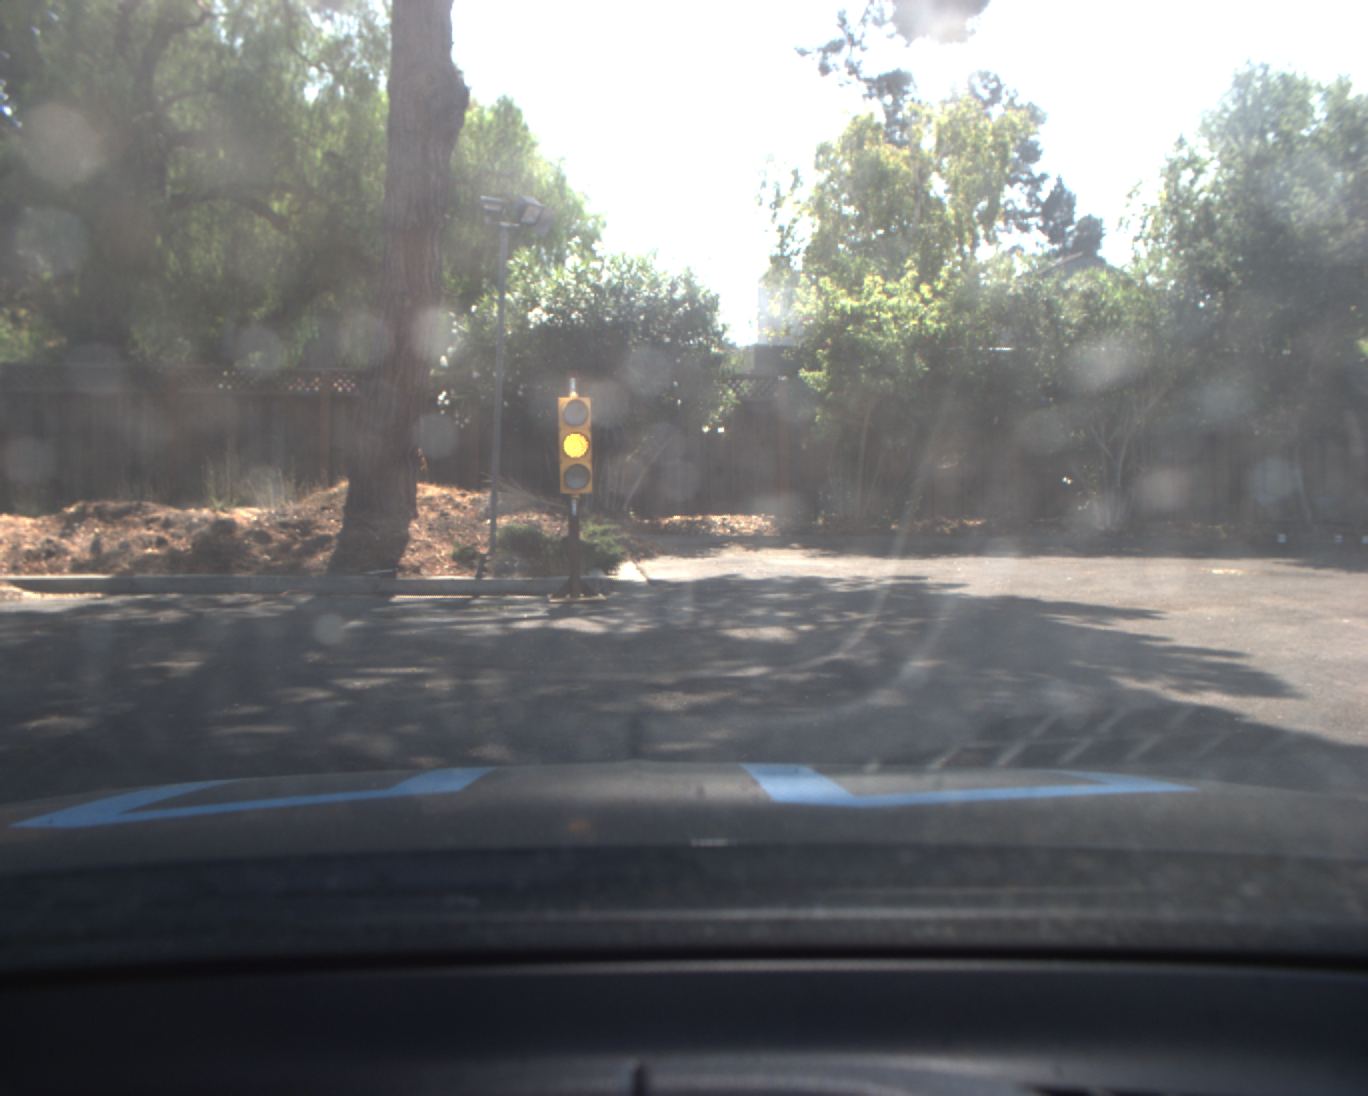yellow: (554, 395, 595, 497)
